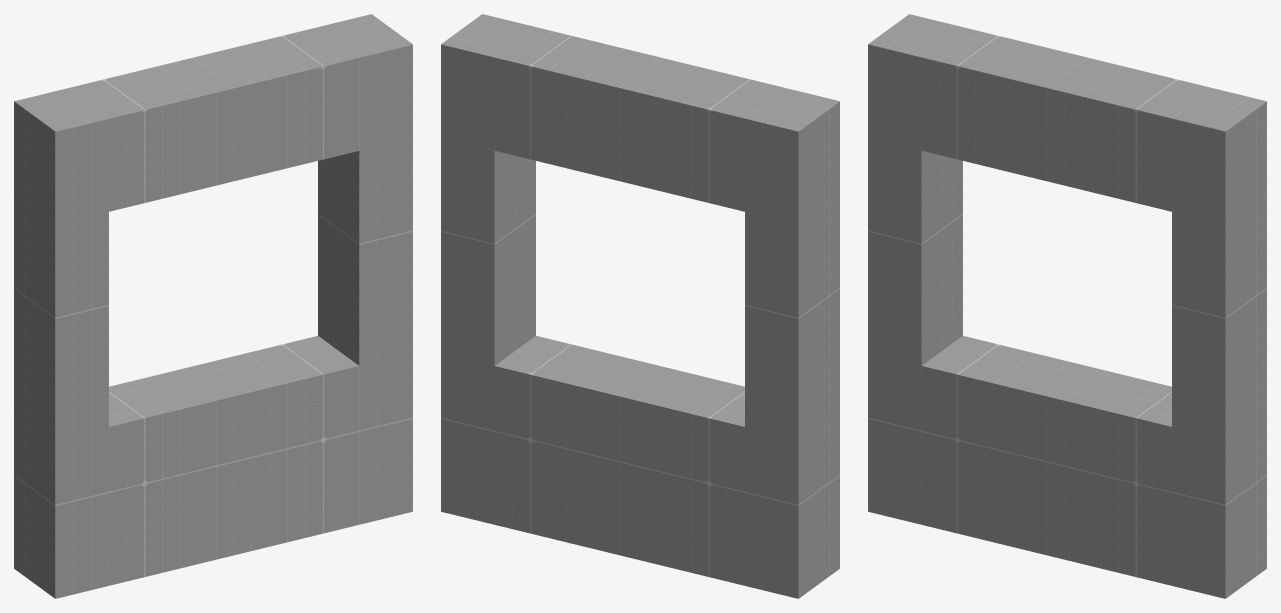
Rendered from Window_1x2_Thick.001.fbx.
3 views of the same model, side by side, from view 1: azimuth 30°, elevation 25°; view 2: azimuth 150°, elevation 25°; view 3: azimuth 330°, elevation 25° (orthographic).
Parts seen in each view (by area): view 1: Window_1x2_Thick.001; view 2: Window_1x2_Thick.001; view 3: Window_1x2_Thick.001.
Part boxes in pixels (x1,y1,x2,y2): Window_1x2_Thick.001: (14,14,412,598); Window_1x2_Thick.001: (441,14,839,598); Window_1x2_Thick.001: (868,14,1266,598).
Bounding box in the file's own units: 200 × 250 × 40.
